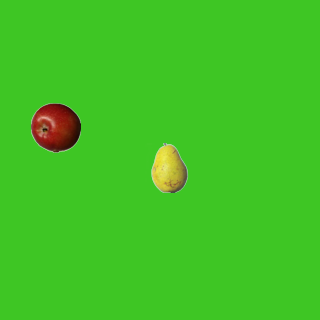Apple Braeburn: (30, 102, 80, 152)
Pear Monster: (144, 142, 194, 192)
